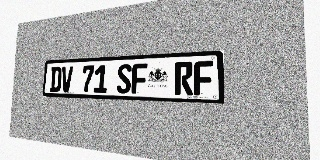1: (94, 65, 108, 93)
7: (81, 65, 94, 93)
D: (50, 67, 62, 92)
F: (194, 61, 213, 96), (131, 63, 147, 94)
R: (175, 61, 193, 95)
S: (116, 64, 132, 94)
V: (61, 66, 73, 92)
